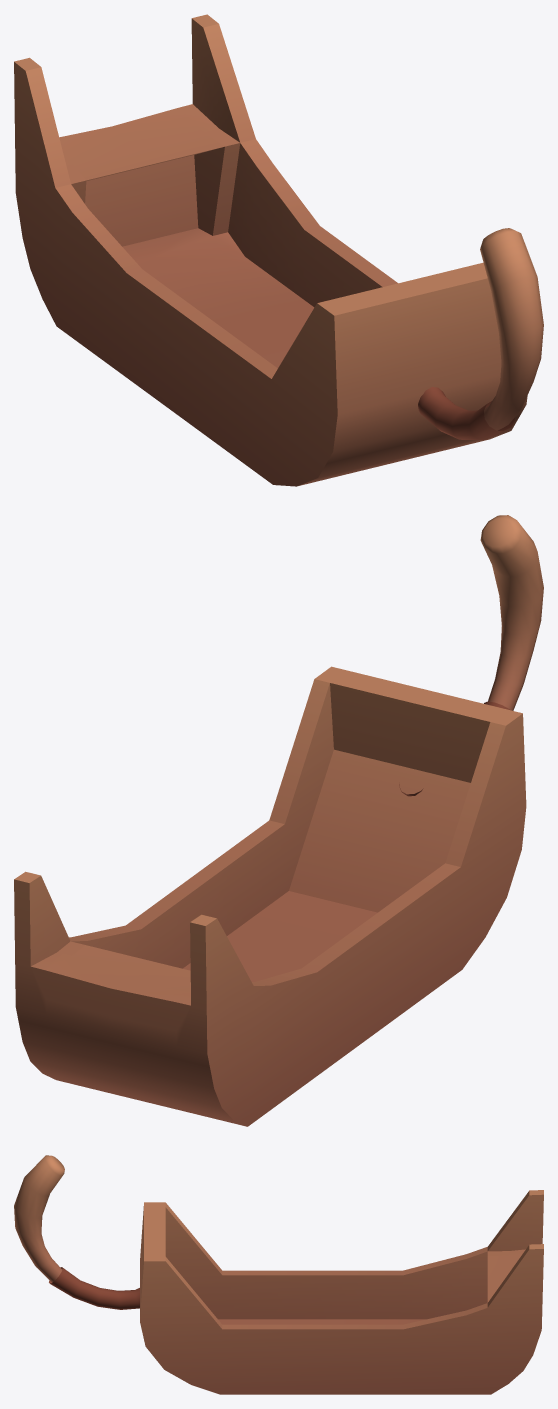
The model's file is Boat01.fbx.
3 renders of one model, top to bottom at view 1: azimuth 30°, elevation 25°; view 2: azimuth 150°, elevation 25°; view 3: azimuth 270°, elevation 25°, orthographic. The views are drawn at different scales.
Parts seen in each view (by area): view 1: Boat01; view 2: Boat01; view 3: Boat01.
Boxes of the visible parts, x1,y1,x2,y2 form: Boat01: (14,14,543,486); Boat01: (14,515,543,1126); Boat01: (14,1155,543,1394).
Size of the model in its own units: 0.7935 by 1.26 by 2.91.
1 material, 1 textured.
